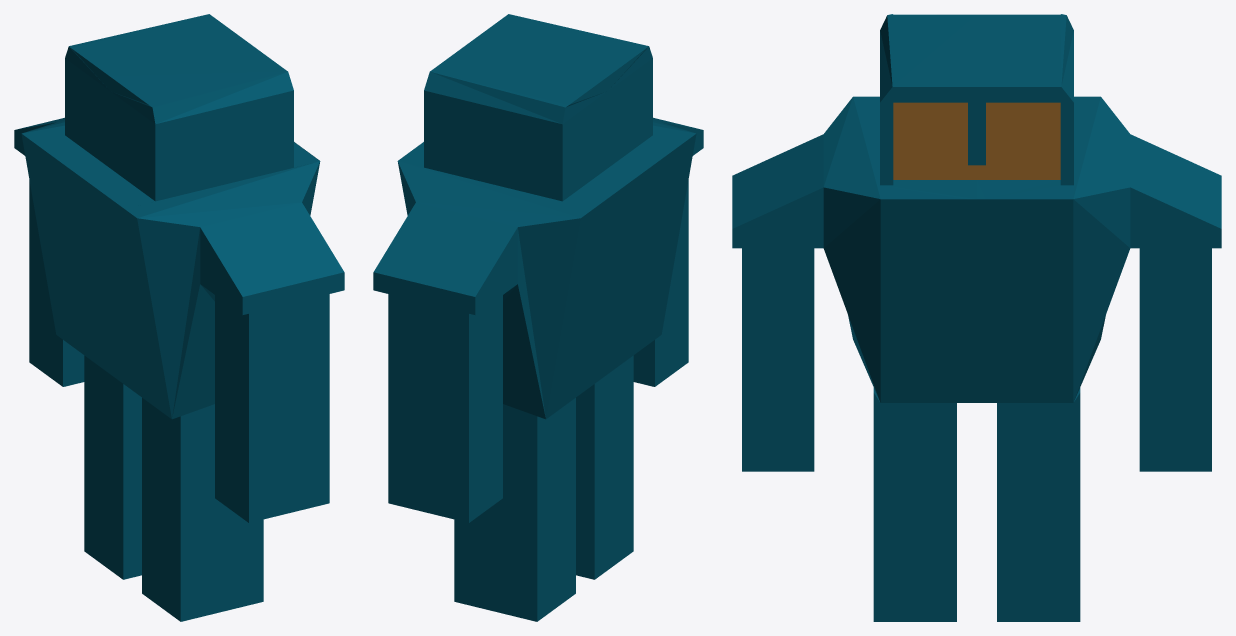
File: knight.obj
The picture shows the model from 3 angles, left to right: view 1: azimuth 30°, elevation 25°; view 2: azimuth 150°, elevation 25°; view 3: azimuth 270°, elevation 25°; orthographic projection. The views are drawn at different scales.
Visible parts, largest first — view 1: Cube; view 2: Cube; view 3: Cube.
Part boxes in pixels (x1=…): Cube: x1=14, y1=14, x2=344, y2=621; Cube: x1=373, y1=14, x2=703, y2=621; Cube: x1=732, y1=14, x2=1221, y2=621.
Size of the model in its own units: 1.96 by 4.92 by 3.95.
